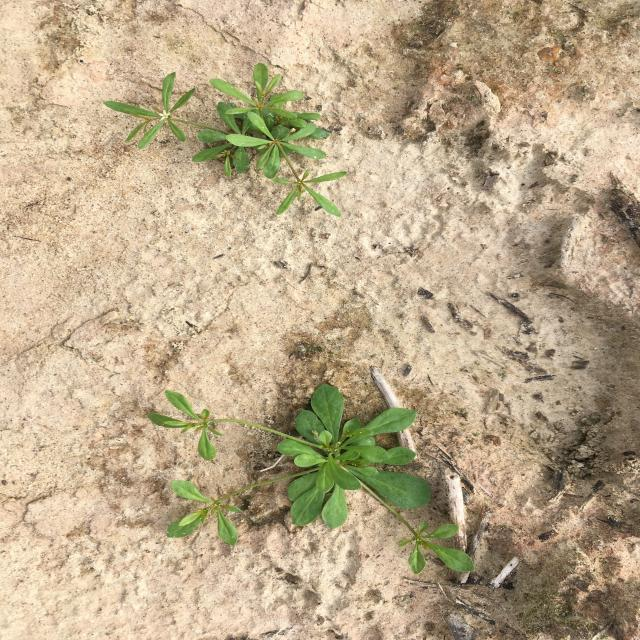Carpetweed: (147, 383, 475, 575), (103, 63, 348, 217)
